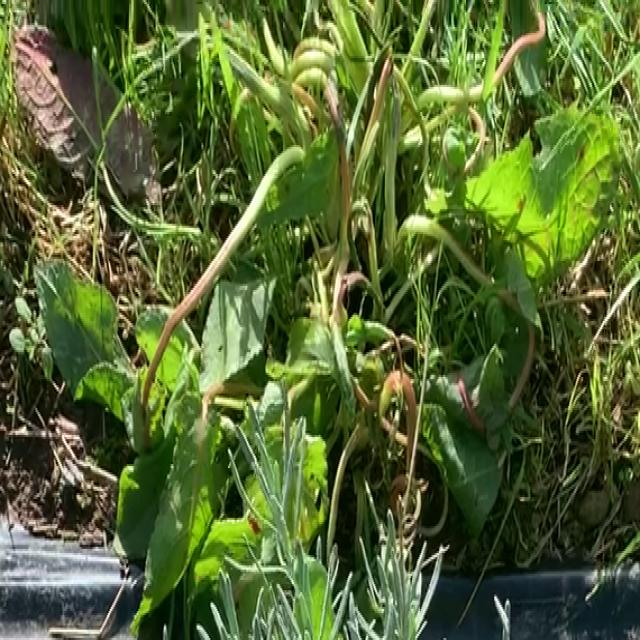organic waste: (8, 0, 634, 640)
